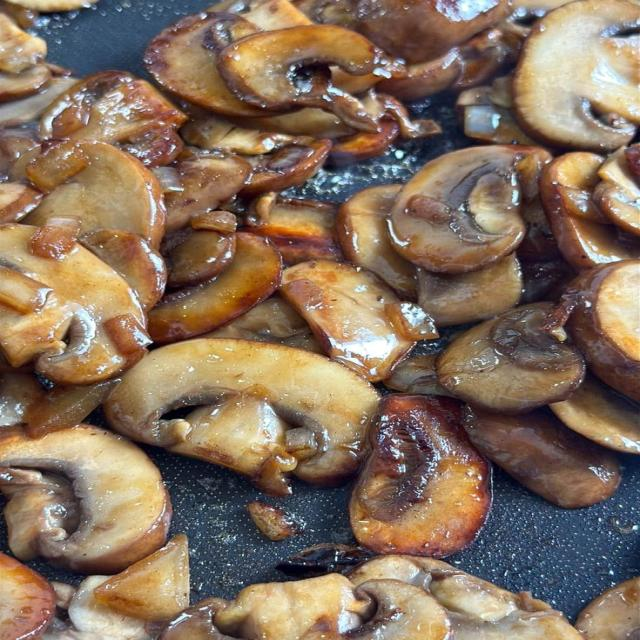champignon mushrooms: (104, 339, 378, 486), (0, 426, 171, 572), (0, 225, 148, 384), (350, 395, 491, 556), (390, 146, 546, 273), (218, 25, 403, 131), (350, 556, 581, 639), (513, 0, 639, 150), (279, 261, 417, 381), (437, 303, 585, 414), (214, 574, 452, 639), (465, 409, 619, 508), (25, 141, 165, 247), (149, 233, 282, 343), (163, 387, 297, 496), (41, 71, 186, 165), (145, 13, 268, 116), (550, 260, 639, 401), (540, 153, 639, 270), (214, 574, 371, 639), (355, 0, 510, 63), (337, 186, 416, 299), (94, 535, 189, 620), (418, 253, 523, 326), (332, 580, 453, 639), (81, 229, 167, 311), (550, 375, 639, 453), (165, 152, 251, 232), (246, 194, 343, 264), (203, 295, 322, 352), (42, 576, 149, 639), (14, 379, 119, 436), (457, 77, 535, 145), (242, 138, 331, 195), (181, 113, 296, 155), (0, 553, 55, 639), (0, 13, 51, 102), (163, 230, 235, 288), (593, 148, 639, 236), (576, 577, 639, 639), (0, 77, 77, 124), (158, 599, 242, 639), (277, 544, 375, 577), (330, 120, 399, 166), (0, 13, 47, 74), (384, 353, 450, 395), (0, 371, 44, 427), (247, 501, 303, 541), (0, 182, 41, 223)
